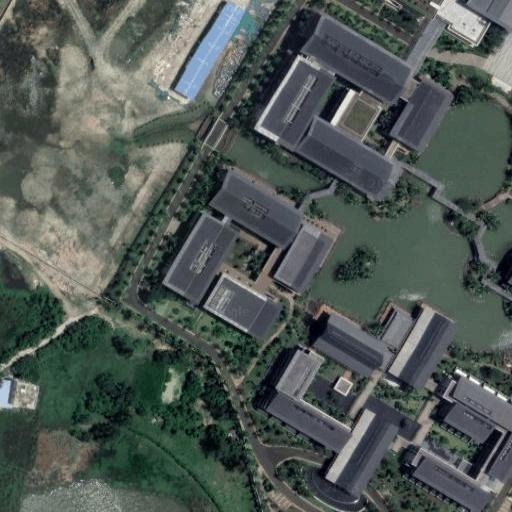building: (297, 12, 410, 107), (160, 207, 248, 312), (292, 114, 398, 201), (320, 403, 409, 502), (166, 0, 251, 103), (204, 169, 307, 252), (253, 54, 336, 151), (378, 298, 456, 394), (297, 307, 392, 383), (397, 444, 497, 512), (204, 268, 290, 346), (436, 360, 512, 438), (260, 385, 347, 451), (271, 218, 334, 296), (392, 78, 453, 152), (424, 392, 497, 449), (327, 85, 384, 143), (275, 343, 323, 399), (472, 0, 512, 37), (329, 371, 356, 397), (497, 251, 512, 291), (0, 376, 13, 409), (382, 136, 400, 159)
